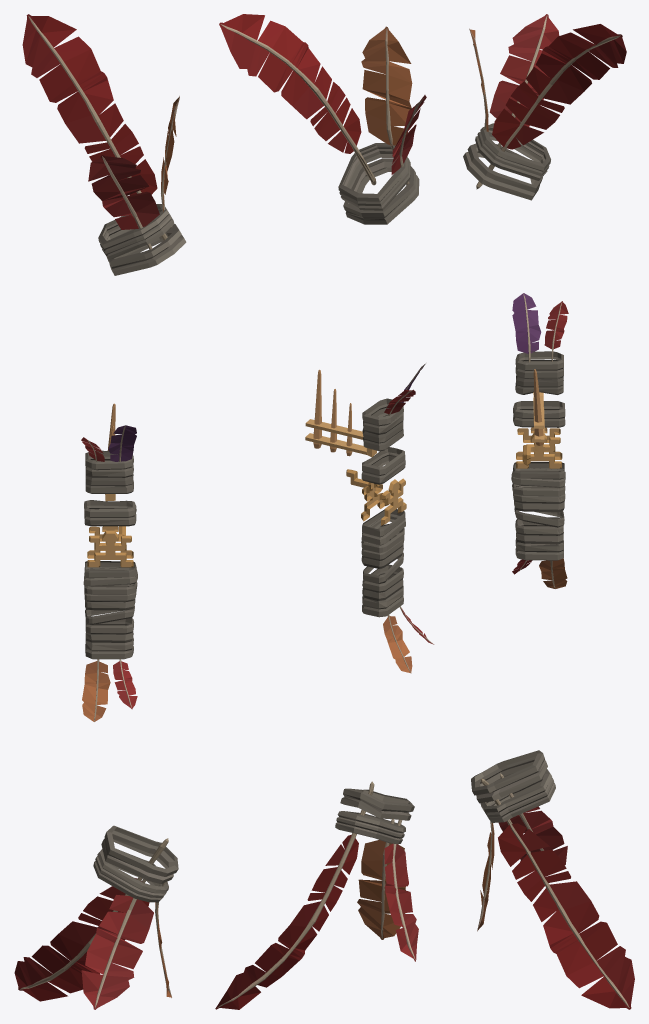
Rendered from largeBowAztecHandle.glb.
The picture shows the model from 3 angles, left to right: view 1: azimuth 90°, elevation 25°; view 2: azimuth 150°, elevation 25°; view 3: azimuth 270°, elevation 25°; orthographic projection.
Visible parts, largest first — view 1: largeBowAztecHandle; view 2: largeBowAztecHandle; view 3: largeBowAztecHandle.
Boxes of the visible parts, x1,y1,x2,y2 form: largeBowAztecHandle: (14, 14, 186, 1009); largeBowAztecHandle: (215, 14, 434, 1009); largeBowAztecHandle: (463, 14, 634, 1009).
Bounding box in the file's own units: 0.2614 × 1.49 × 0.2352.
